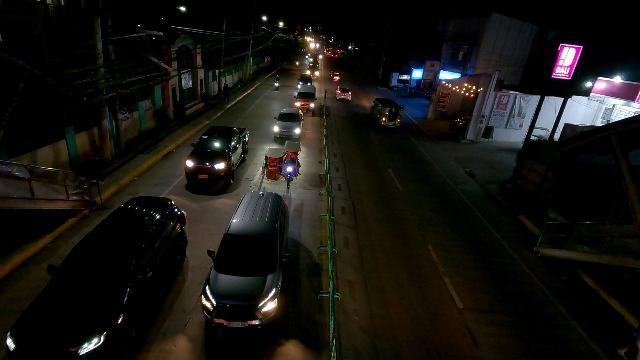car: (16, 193, 189, 355), (202, 191, 289, 329), (271, 108, 302, 143), (334, 86, 354, 104), (297, 73, 313, 90), (305, 63, 320, 77)
jeepney: (370, 97, 404, 129)
motorcycle: (273, 74, 281, 92)
pickup-truck: (182, 126, 251, 188)
van: (295, 85, 317, 114)
